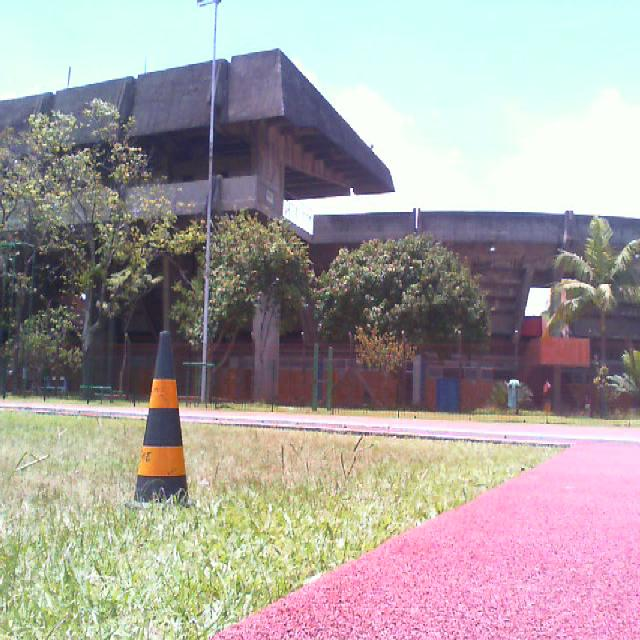cone: (125, 332, 197, 511)
